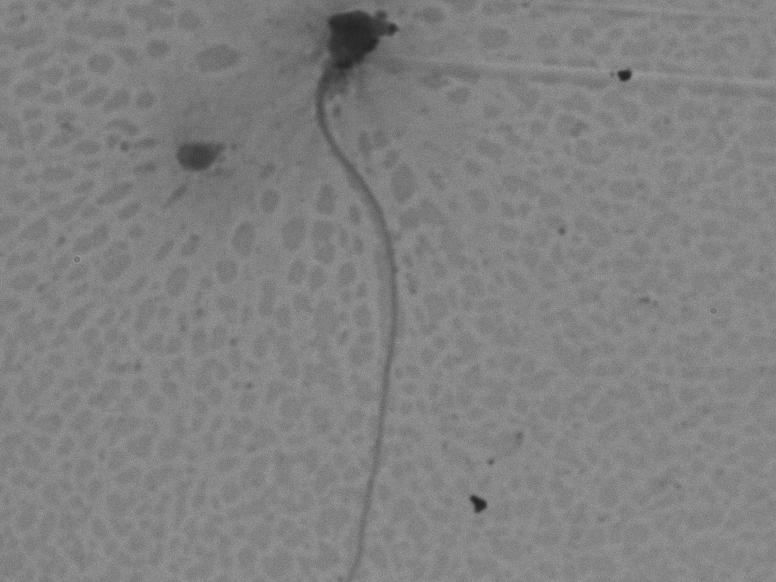Abnormal: (252, 2, 473, 569)
